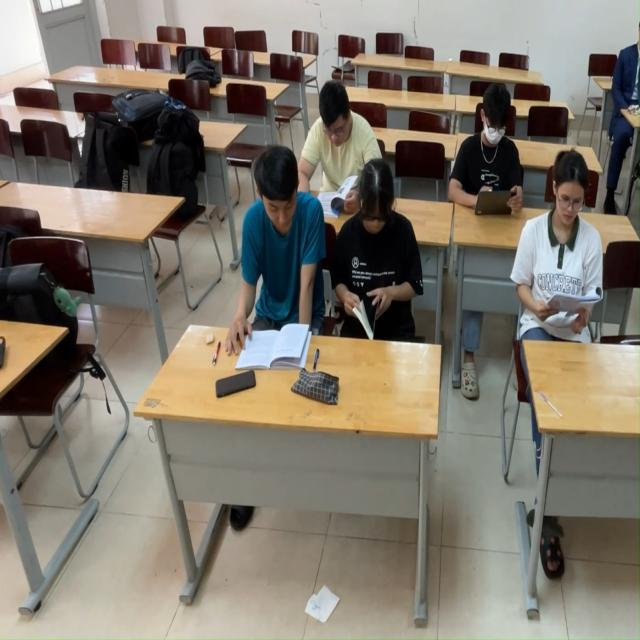read: (515, 153, 605, 373), (237, 147, 312, 382), (332, 179, 424, 353), (448, 65, 522, 216), (310, 82, 376, 218)
